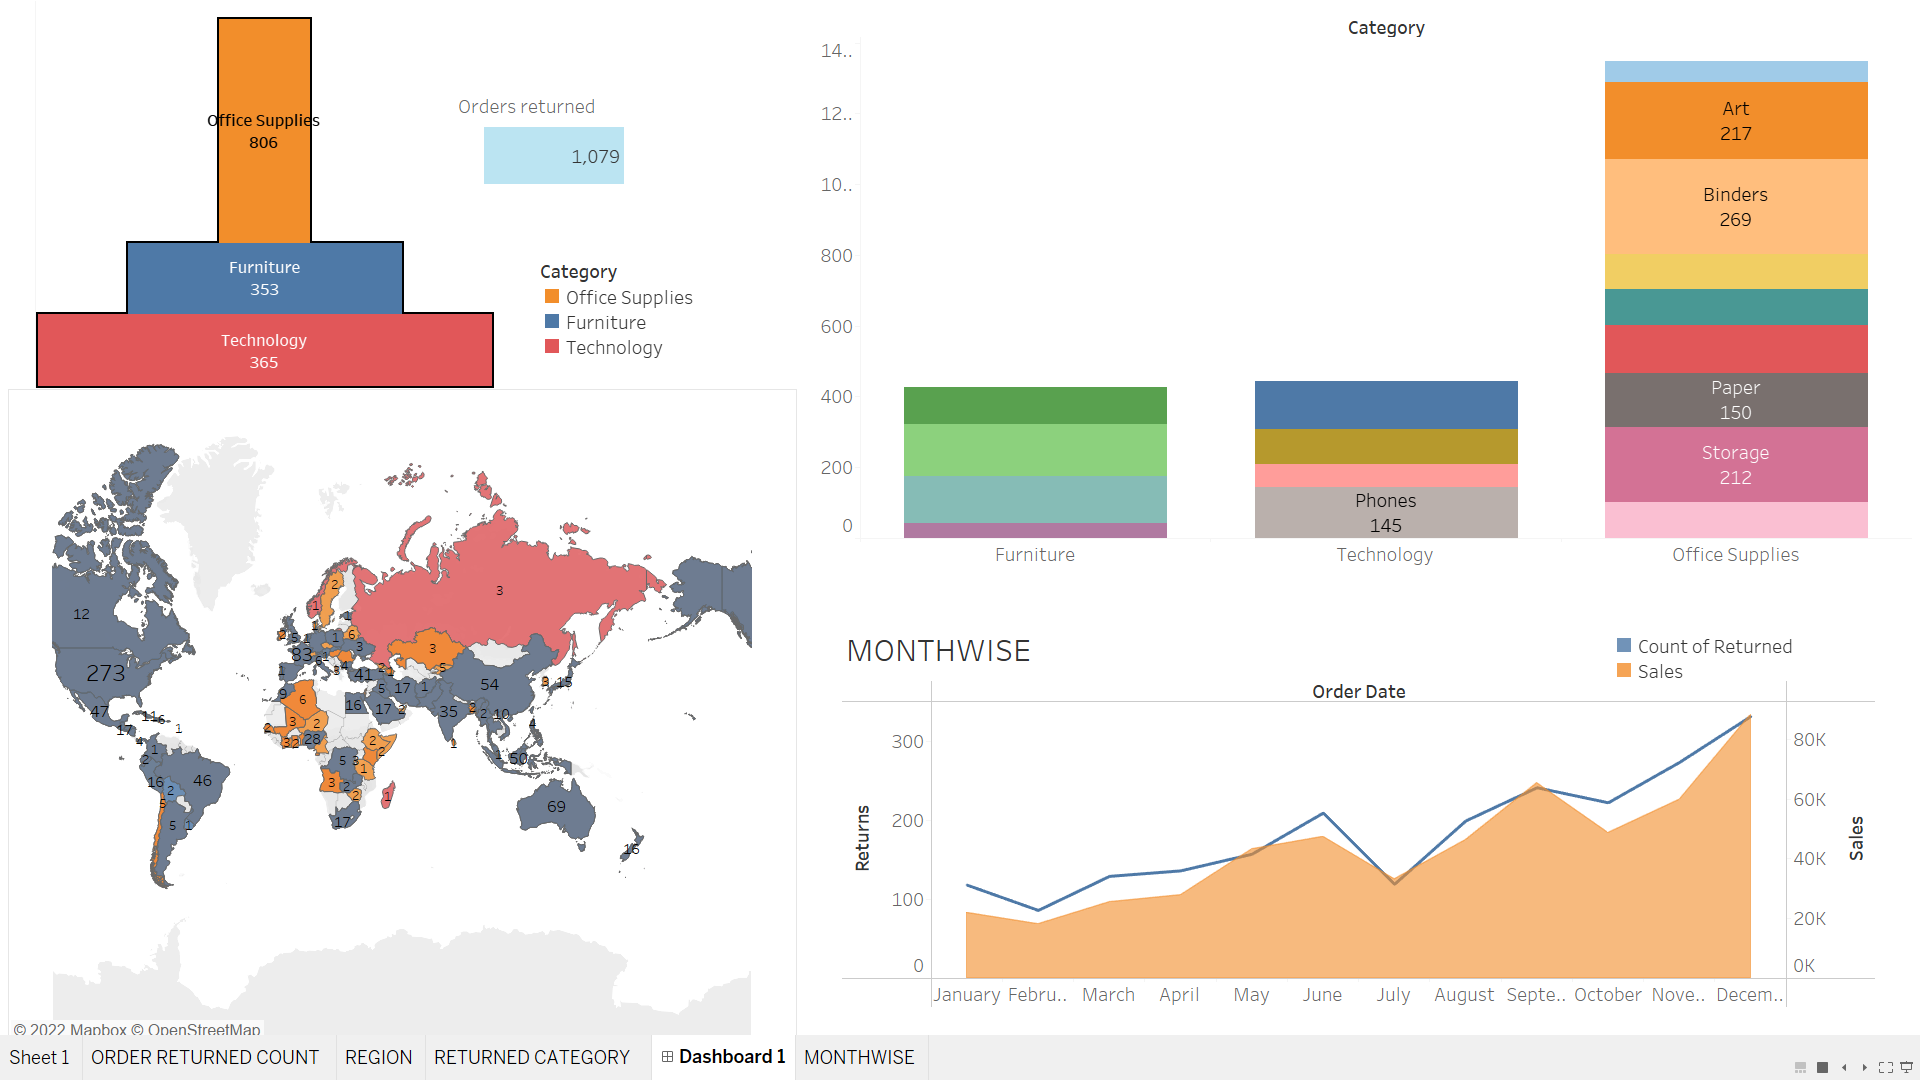

The page's visual inventory and layout, read from the dashboard file:
{"tool":"tableau","page":{"name":"Dashboard 1","canvas":[1000,1000],"units":"permille","ordinal":0},"visuals":[{"type":"worksheet","title":"Sheet 1","mark":"Automatic","rows":["Order ID (RETURNS)"],"box":[2.7,1.1,254.5,373.6]},{"type":"worksheet","title":"RETURNED CATEGORY ","mark":"Bar","rows":["Returned"],"cols":["Category"],"box":[427.1,2.3,568.8,574]},{"type":"text","box":[236.4,83.1,146.4,37.6]},{"type":"worksheet","title":"ORDER RETURNED COUNT","mark":"Automatic","box":[251.8,123,137.7,116.2]},{"type":"legend","title":"Sheet 1","param":"[federated.033vv6u0hurfi517w7xd20go7zm1].[none:Category:nk]","box":[281.4,249.4,126.3,116.2]},{"type":"legend","title":"MONTHWISE","param":"[federated.033vv6u0hurfi517w7xd20go7zm1].[:Measure Names]","box":[839.5,586.6,124.9,96.8]},{"type":"worksheet","title":"MONTHWISE","mark":"Automatic","rows":["Returned","Sales"],"cols":["Order Date"],"box":[438.6,602.5,538.6,371.3]}]}

Visuals, with their boxes on the dashboard's canvas, which has no fixed pixel size, in thousandths of its width and height (x1, y1, x2, y2). These are canvas units, not pixel positions in the 1920x1080 screenshot, which may show the page scaled, cropped or inside an application window:
"Sheet 1" worksheet: [3,1,257,375]
"RETURNED CATEGORY " worksheet (Bar marks): [427,2,996,576]
text: [236,83,383,121]
"ORDER RETURNED COUNT" worksheet: [252,123,390,239]
"Sheet 1" legend: [281,249,408,366]
"MONTHWISE" legend: [840,587,964,683]
"MONTHWISE" worksheet: [439,602,977,974]
